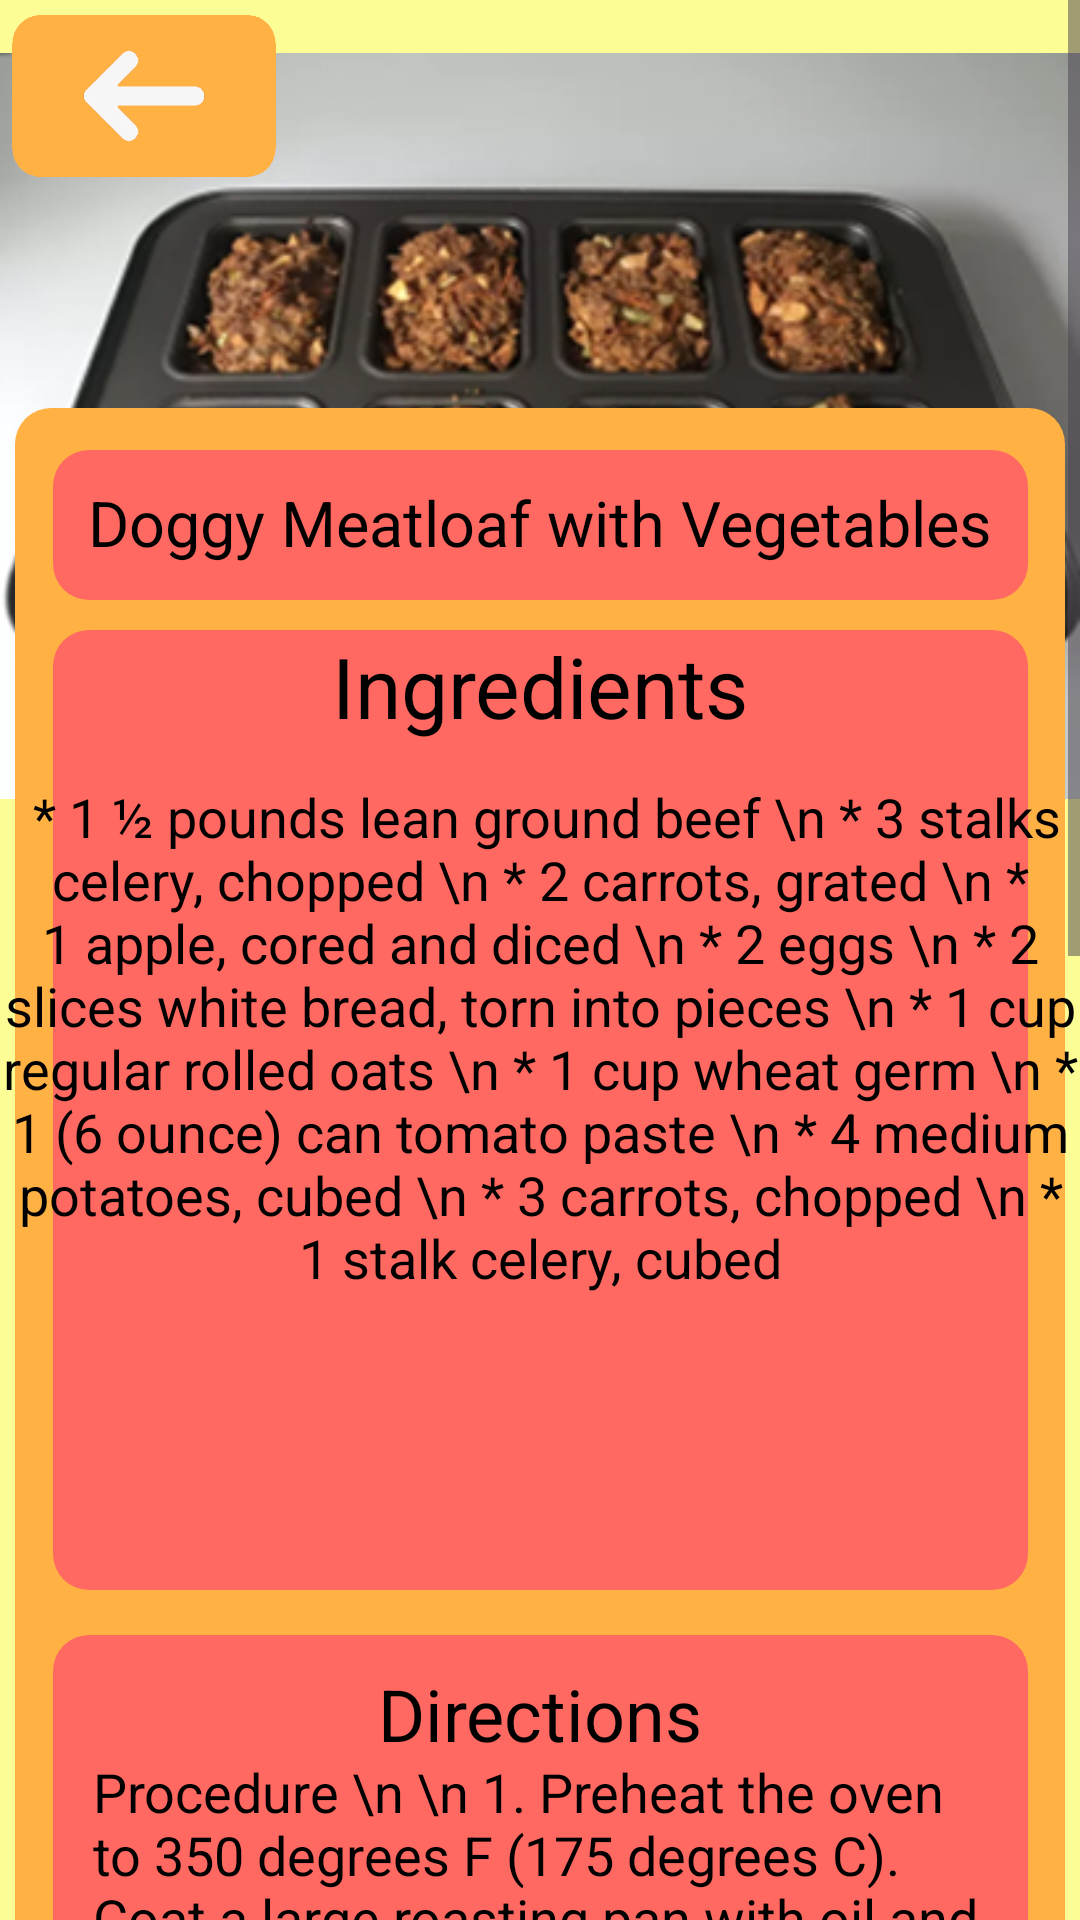

Point at icon controls on the screen. Image size 1080×1920, points as point (x, y).
backred: point (144, 96)
